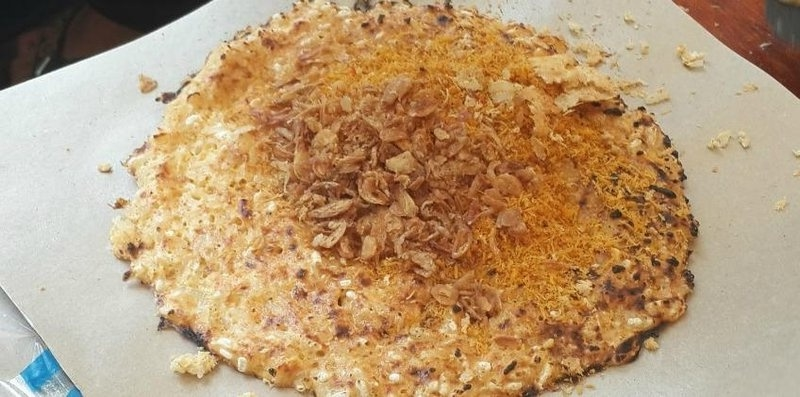kerak_telor: (111, 4, 700, 397)
